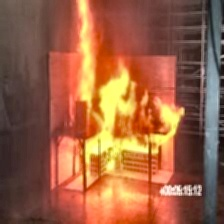fire: (31, 1, 205, 189)
